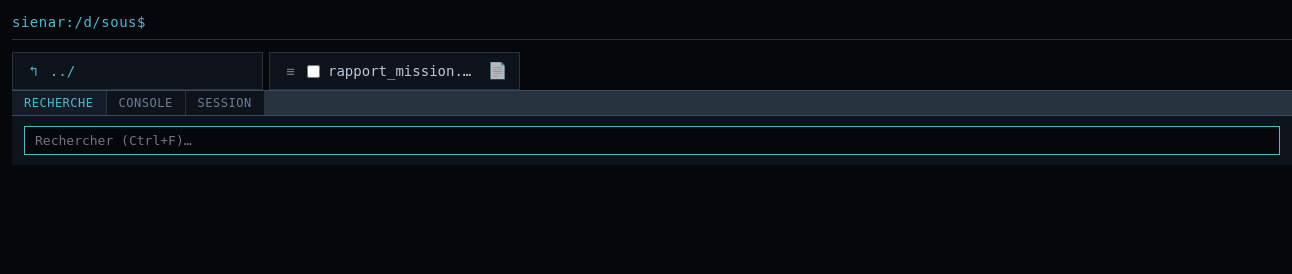
Test: FileExplorer.vue - Point 7: Recherche (dock) › permet de changer de périmètre via le sélecteur (les résultats se recalculent)
The width and height of the screenshot is (1292, 274).
Type "notes" into the field with class "search-input".
click(652, 140); type("notes")  # box x1=24 y1=126 x2=1280 y2=155
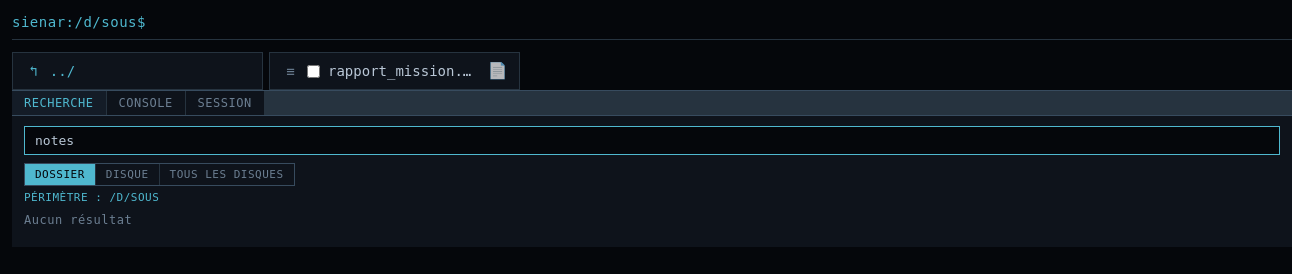
Expected: the element with class "bottom-dock" does not show "/d/notes.md"
Click the button "Tous les disques".
click(227, 174)  # box x1=160 y1=164 x2=294 y2=185
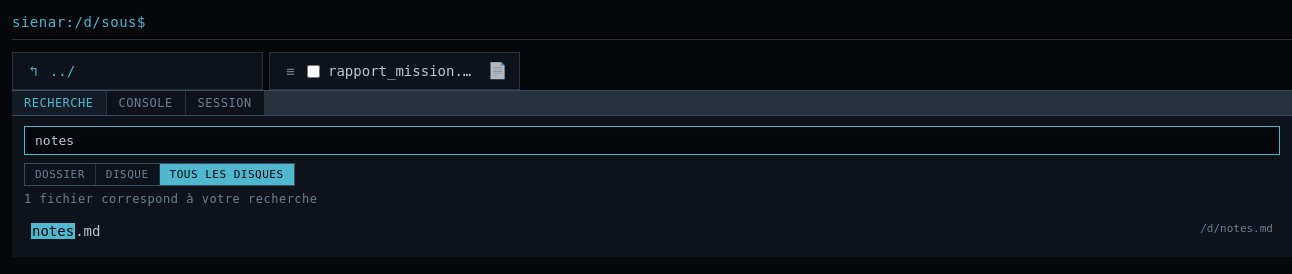
Now the element with class "bottom-dock" shows "/d/notes.md", box x1=1200 y1=222 x2=1273 y2=235
